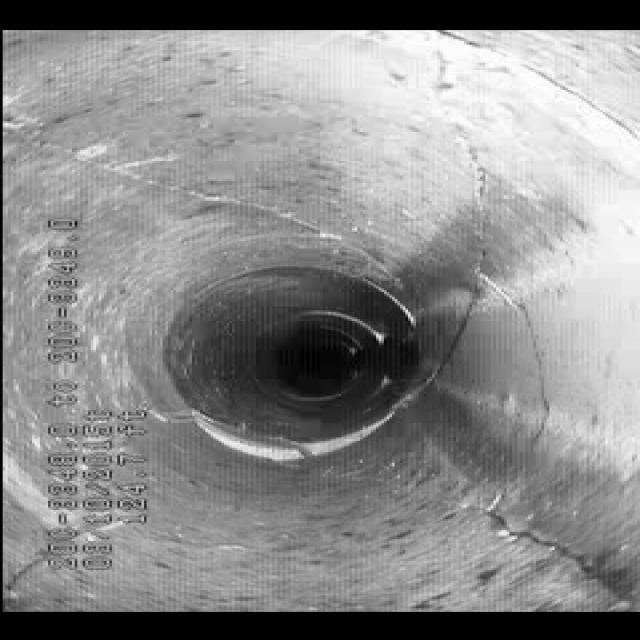Fracture: (444, 381, 606, 588), (416, 55, 514, 363)
